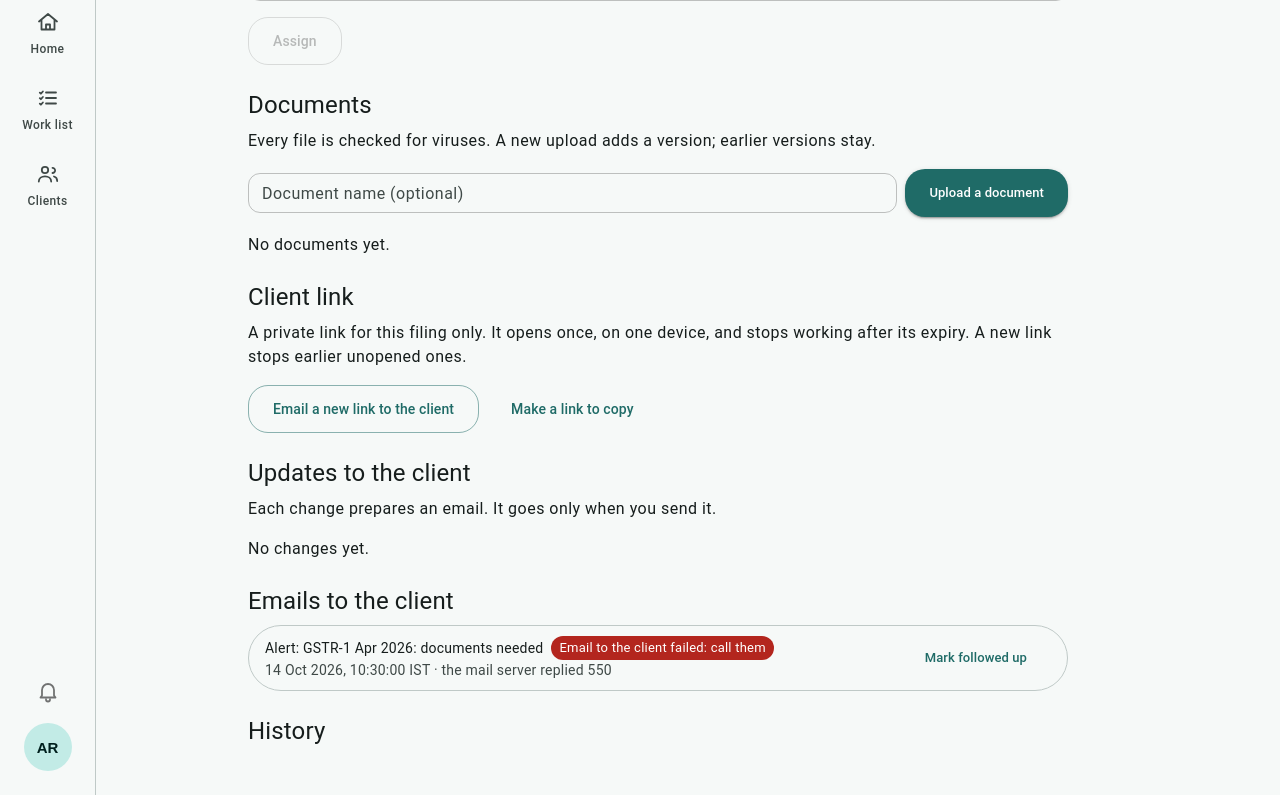
Test case: Emails to the client › flags a failed alert and takes it off the list once followed up
(page scrolled)
Expected: the list named "Emails to the client" shows "Email to the client failed: call them", [560,640,766,655]
Expected: the list named "Emails to the client" shows "the mail server replied 550", [265,662,612,678]
Click the button "Mark followed up": (976, 658) [901,634,1051,682]
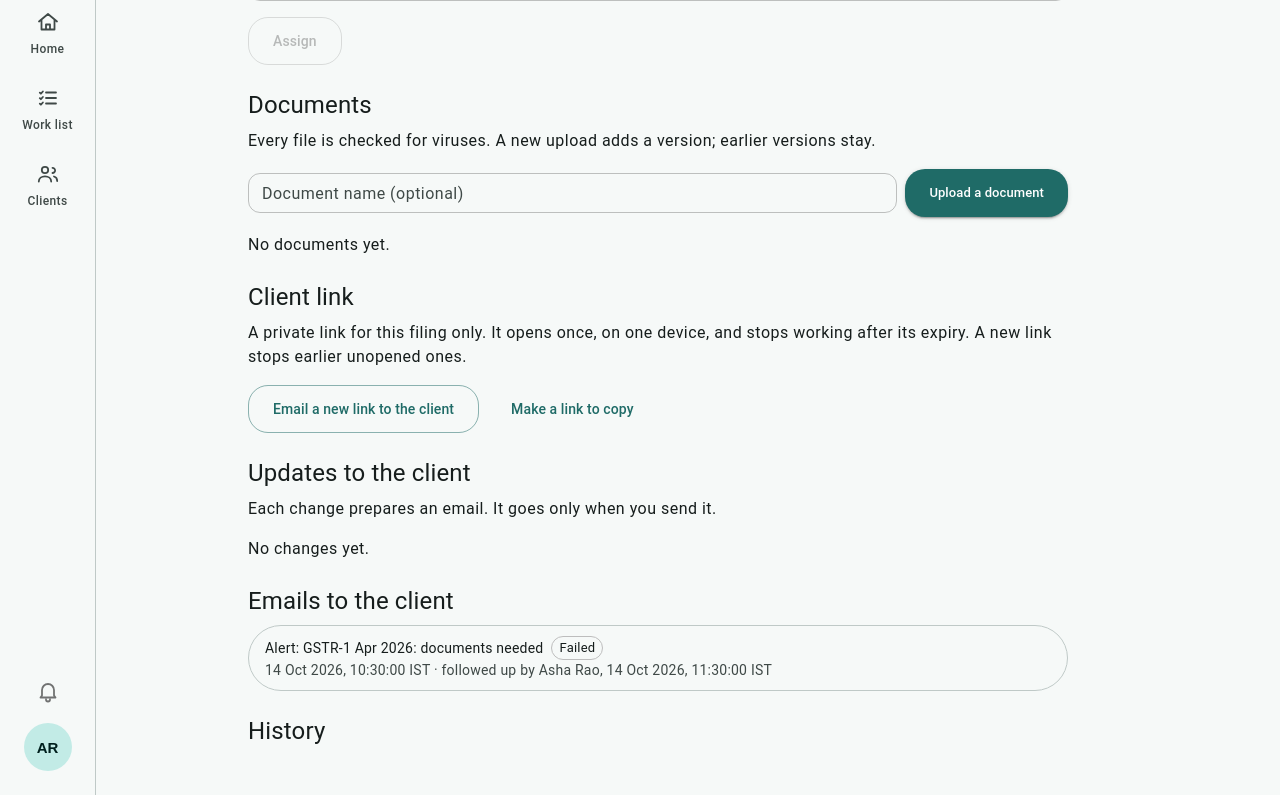
Expected: the text "followed up by Asha Rao" is shown, [265,662,772,678]
Expected: the button "Mark followed up" is gone
